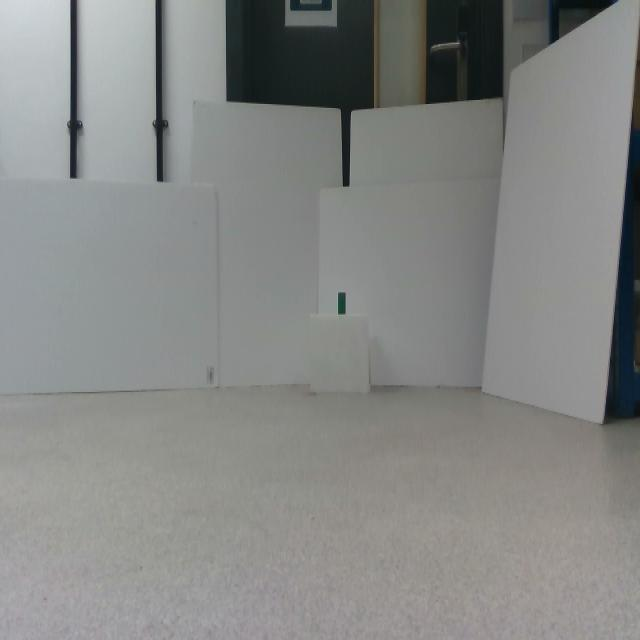green_cylinder: (338, 292, 346, 314)
